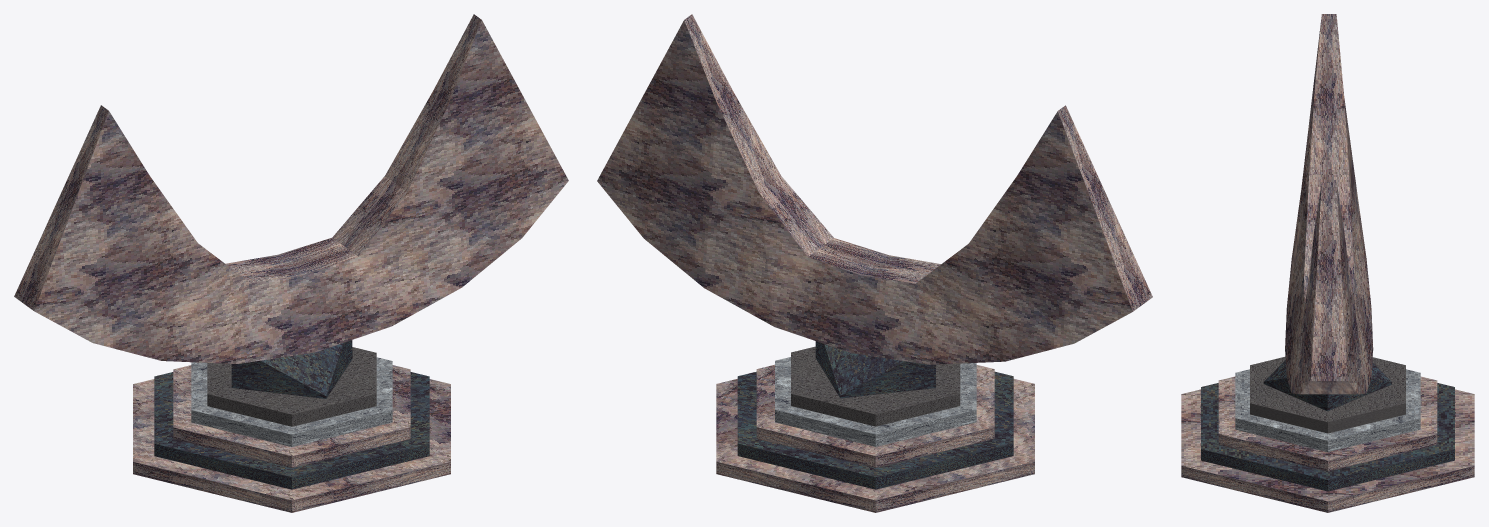
The model's file is FiveSteps.fbx.
3 renders of one model, left to right at view 1: azimuth 30°, elevation 25°; view 2: azimuth 150°, elevation 25°; view 3: azimuth 270°, elevation 25°, orthographic. The views are drawn at different scales.
Visible parts, largest first — view 1: FIVESTEPS; view 2: FIVESTEPS; view 3: FIVESTEPS.
Part boxes in pixels (<box>): FIVESTEPS: <box>14,14,568,512</box>; FIVESTEPS: <box>597,14,1152,512</box>; FIVESTEPS: <box>1181,14,1474,512</box>.
Bounding box in the file's own units: 62.81 × 41.79 × 32.34.
